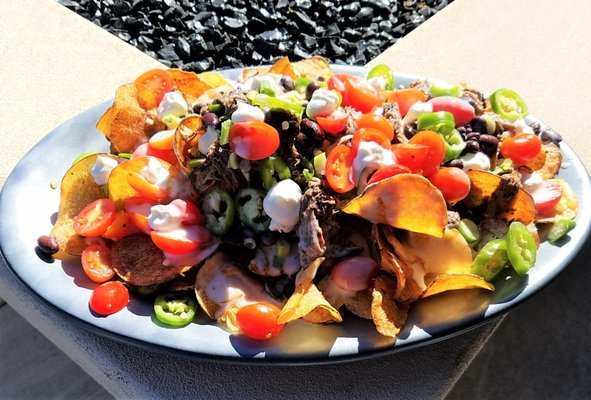curry: (1, 2, 552, 398)
